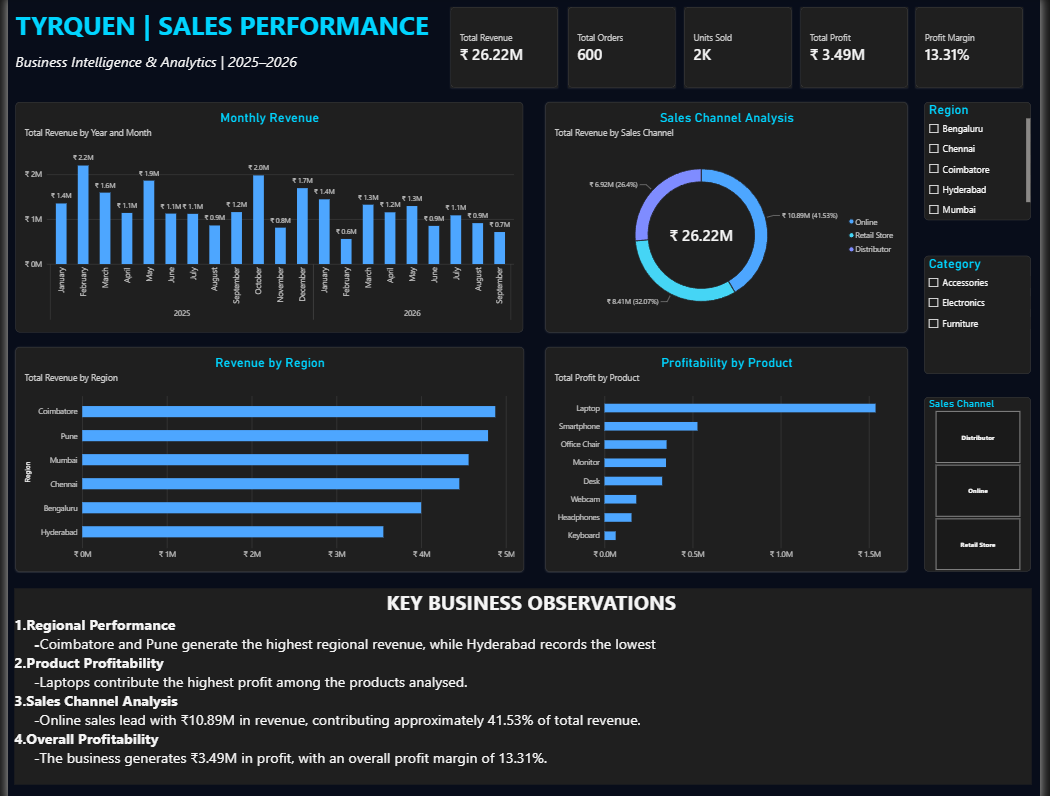

The page's visual inventory and layout, read from the dashboard file:
{"tool":"powerbi","page":{"name":"Sales Performance","canvas":[1920,1500],"ordinal":0},"visuals":[{"type":"cardVisual","fields":{"Data":["Sales Data.Total Revenue"]},"box":[823.5,19.7,200,150],"z":0},{"type":"cardVisual","fields":{"Data":["Sales Data.Total Orders"]},"box":[1041.5,19.7,200,150],"z":1000},{"type":"cardVisual","fields":{"Data":["Sales Data.Units Sold"]},"box":[1257.6,19.7,200,150],"z":2000},{"type":"cardVisual","fields":{"Data":["Sales Data.Total Profit"]},"box":[1473.8,19.7,200,150],"z":3000},{"type":"cardVisual","fields":{"Data":["Sales Data.Profit Margin"]},"box":[1689.9,19.7,200,150],"z":4000},{"type":"clusteredColumnChart","title":"Monthly Revenue","fields":{"Category":["Sales Data.Order Date.Variation.Date Hierarchy.Year","Sales Data.Order Date.Variation.Date Hierarchy.Month"],"Y":["Sales Data.Total Revenue"]},"box":[14.3,196.5,945,428.7],"z":5000},{"type":"clusteredBarChart","title":"Revenue by Region","fields":{"Category":["Sales Data.Region"],"Y":["Sales Data.Total Revenue"]},"box":[14,652,946,418],"z":6000},{"type":"donutChart","title":"Sales Channel Analysis","fields":{"Category":["Sales Data.Sales Channel"],"Y":["Sales Data.Total Revenue"]},"box":[1000.4,196.5,673.5,428.7],"z":7000},{"type":"barChart","title":"Profitability by Product","fields":{"Category":["Sales Data.Product"],"Y":["Sales Data.Total Profit"]},"box":[1000,652,674,418],"z":8000},{"type":"slicer","fields":{"Values":["Sales Data.Region"]},"box":[1706,196,198,220],"z":9000},{"type":"slicer","fields":{"Values":["Sales Data.Category"]},"box":[1706,482,198,220],"z":10000},{"type":"slicer","fields":{"Values":["Sales Data.Sales Channel"]},"box":[1706,744.4,198.3,325.1],"z":11000},{"type":"textbox","box":[14.3,19.7,778.9,150.1],"z":12000},{"type":"textbox","box":[11.6,1100.3,1893.6,365.2],"z":12001}]}

Visuals, with their boxes on the page's 1920x1500 design canvas (x1, y1, x2, y2). These are canvas units, not pixel positions in the 1050x796 screenshot, which may show the page scaled, cropped or inside an application window:
cardVisual - Sales Data.Total Revenue: bbox(824, 20, 1024, 170)
cardVisual - Sales Data.Total Orders: bbox(1042, 20, 1242, 170)
cardVisual - Sales Data.Units Sold: bbox(1258, 20, 1458, 170)
cardVisual - Sales Data.Total Profit: bbox(1474, 20, 1674, 170)
cardVisual - Sales Data.Profit Margin: bbox(1690, 20, 1890, 170)
"Monthly Revenue" clusteredColumnChart: bbox(14, 196, 959, 625)
"Revenue by Region" clusteredBarChart: bbox(14, 652, 960, 1070)
"Sales Channel Analysis" donutChart: bbox(1000, 196, 1674, 625)
"Profitability by Product" barChart: bbox(1000, 652, 1674, 1070)
slicer - Sales Data.Region: bbox(1706, 196, 1904, 416)
slicer - Sales Data.Category: bbox(1706, 482, 1904, 702)
slicer - Sales Data.Sales Channel: bbox(1706, 744, 1904, 1070)
textbox: bbox(14, 20, 793, 170)
textbox: bbox(12, 1100, 1905, 1466)
